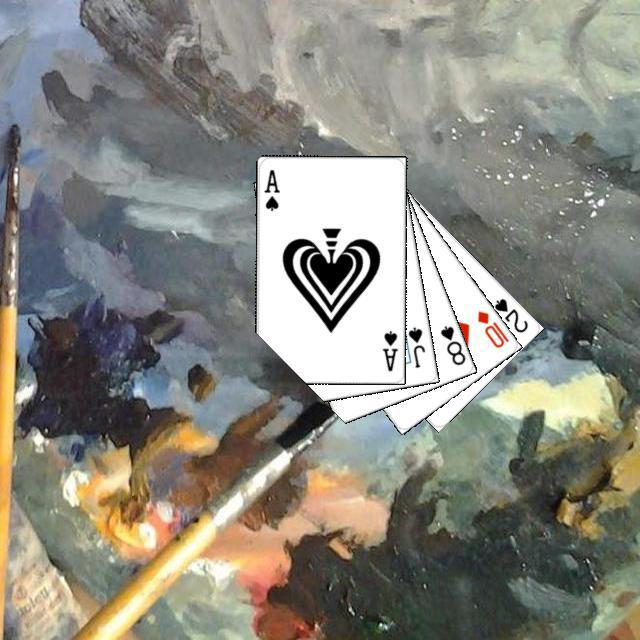10d: (472, 306, 511, 350)
2s: (489, 293, 530, 334)
8s: (435, 321, 467, 367)
As: (377, 326, 400, 373), (259, 165, 281, 213)
Js: (403, 322, 426, 370)
